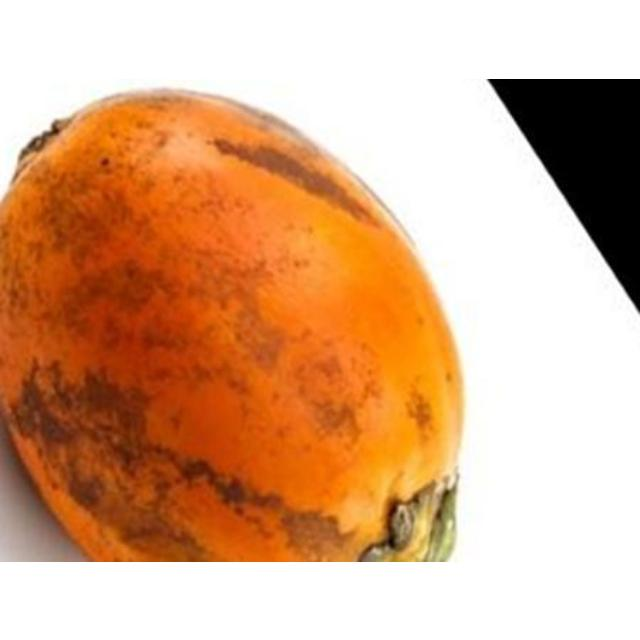good: (0, 88, 466, 560)
